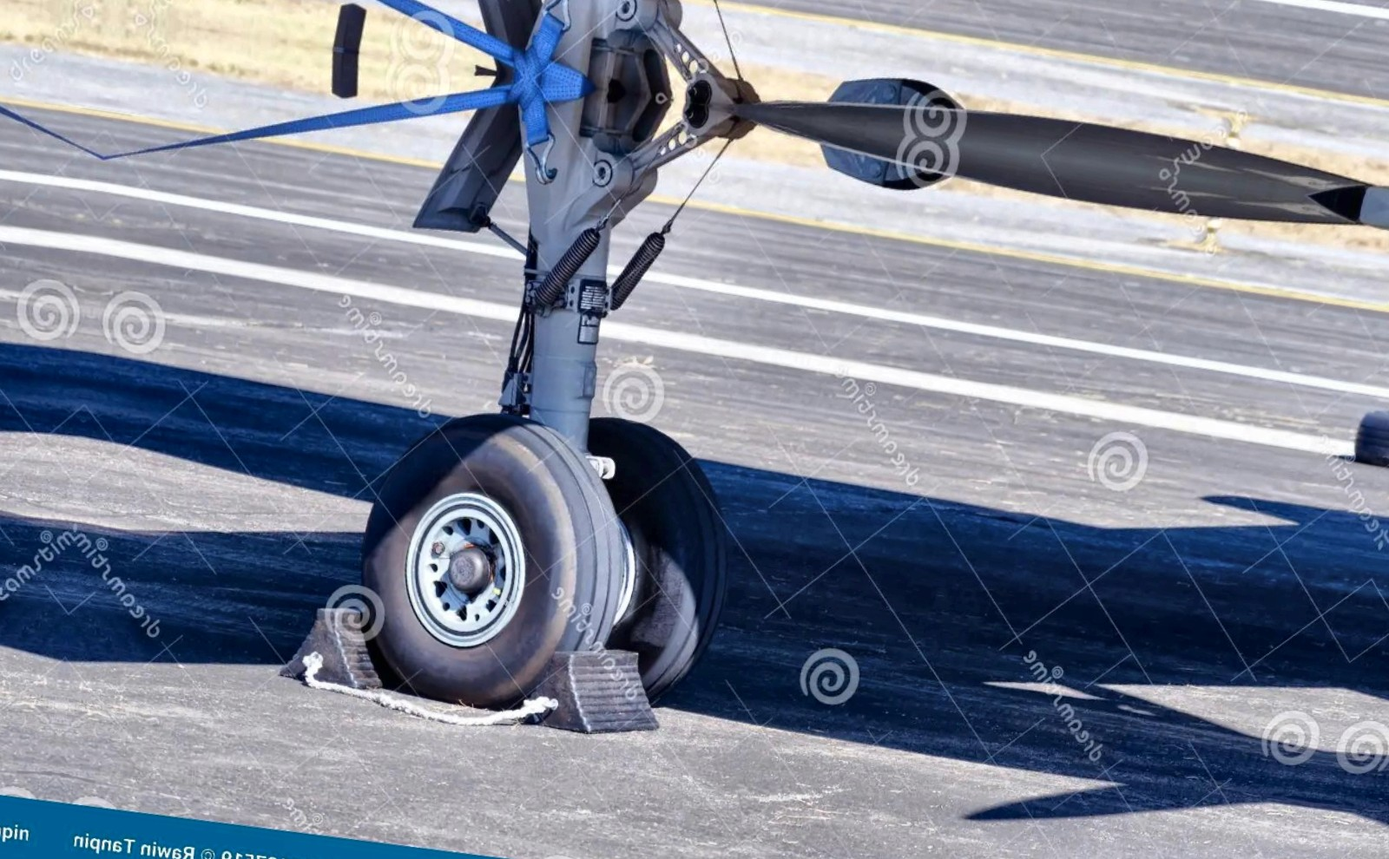chock: (520, 631, 677, 751), (272, 593, 397, 704)
wheel: (335, 387, 649, 729), (538, 405, 756, 721), (1347, 403, 1389, 472)
